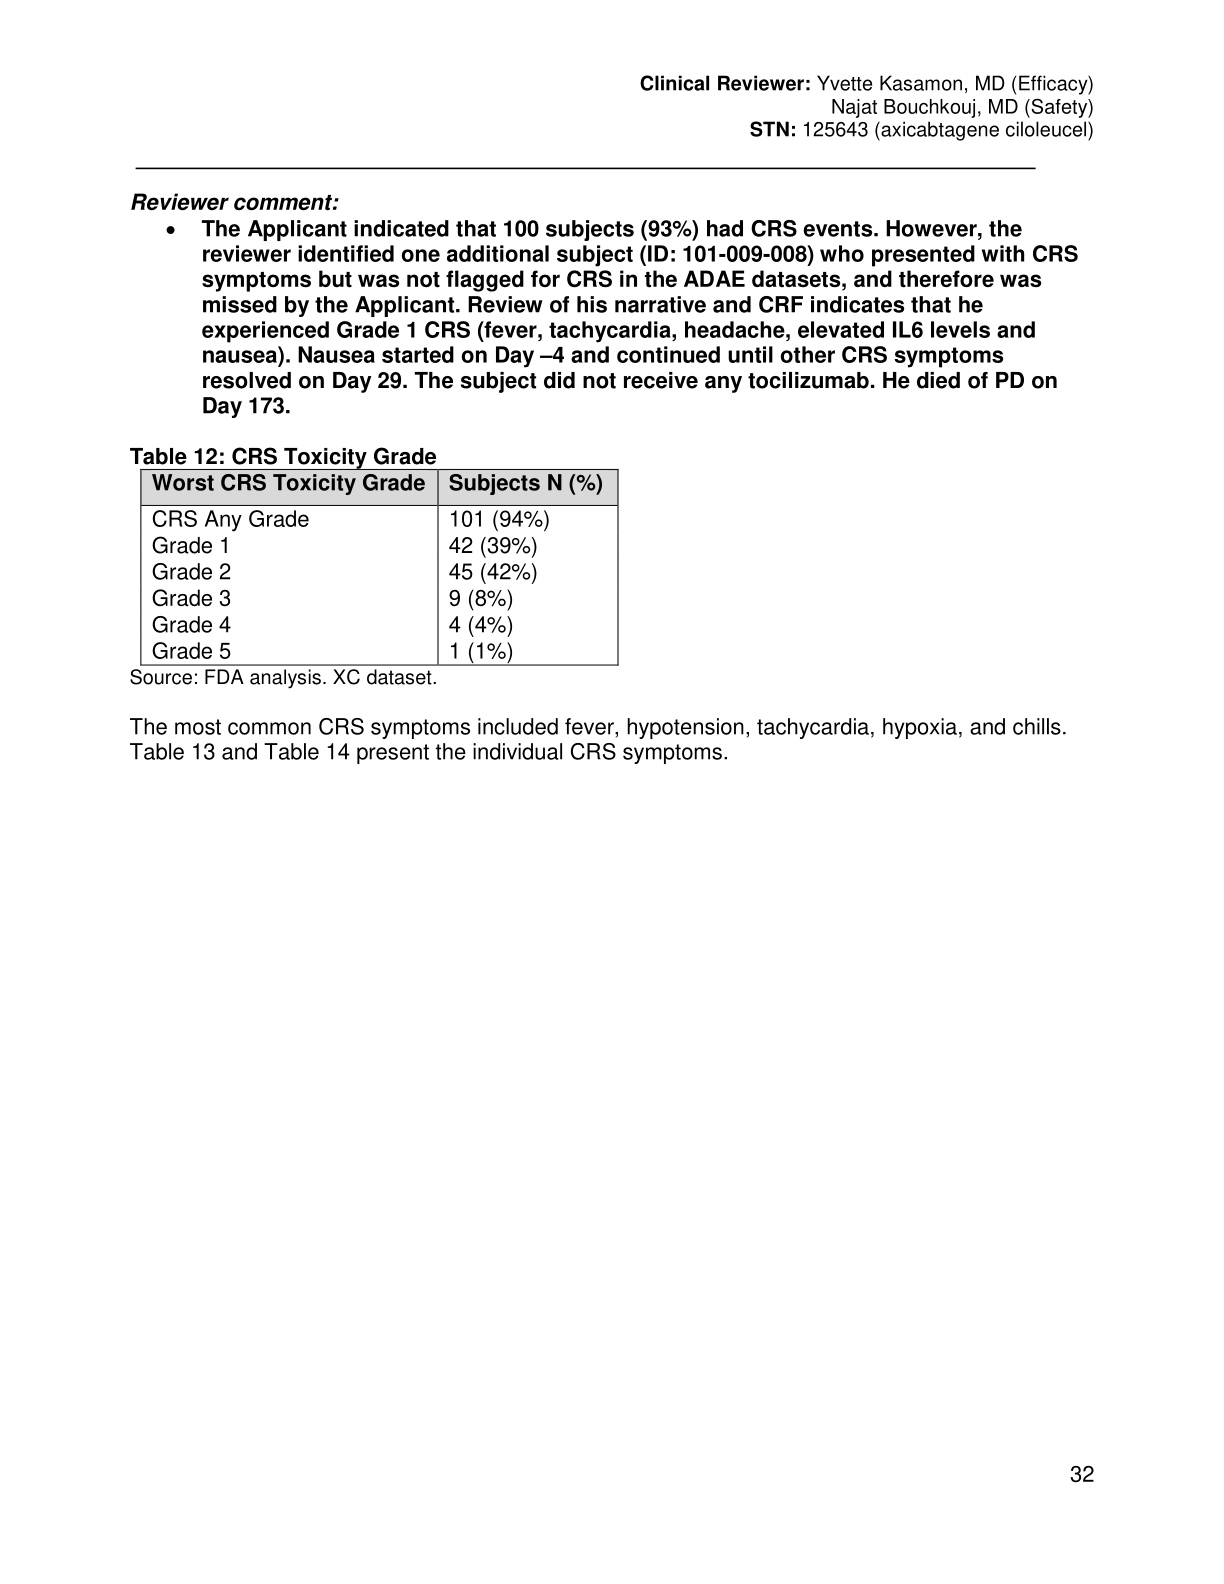partial_lined: (139, 467, 618, 666)
